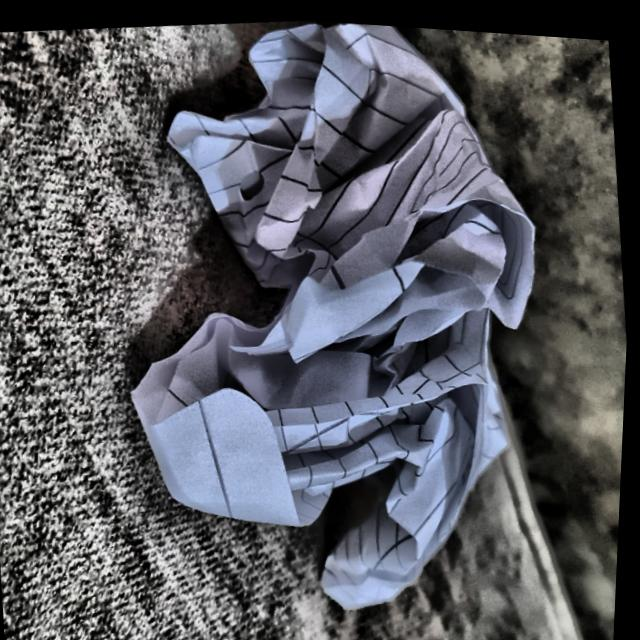paper: (93, 6, 586, 630)
